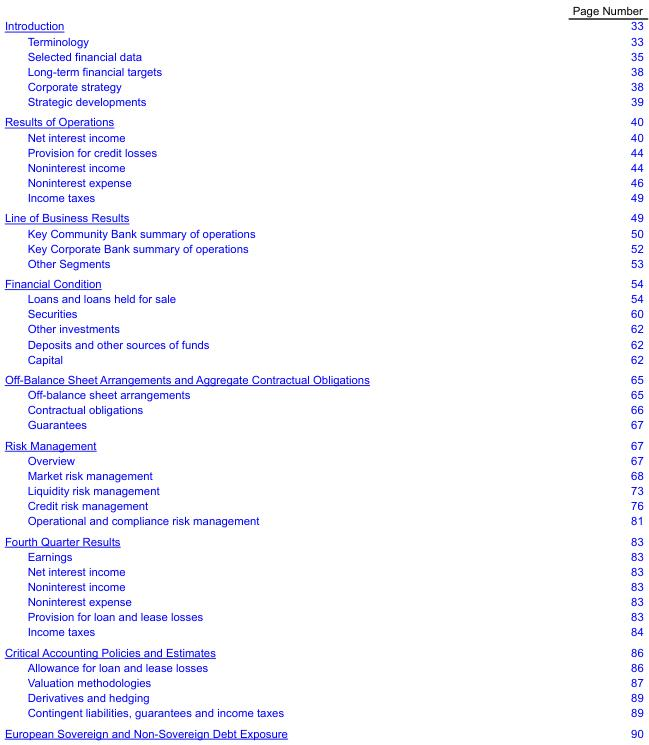table: (3, 3, 642, 738)
table column: (3, 3, 470, 738), (470, 3, 642, 738)
table column header: (3, 3, 642, 17)
table row: (3, 93, 642, 111), (3, 111, 642, 129), (3, 189, 642, 207), (3, 272, 642, 290), (3, 368, 642, 386), (3, 416, 642, 434), (3, 434, 642, 452), (3, 512, 642, 530), (3, 530, 642, 548), (3, 623, 642, 641), (3, 641, 642, 659), (3, 704, 642, 722), (3, 207, 642, 224), (3, 255, 642, 272), (3, 351, 642, 368), (3, 17, 642, 33), (3, 224, 642, 240), (3, 320, 642, 336), (3, 722, 642, 738), (3, 33, 642, 48), (3, 48, 642, 63), (3, 63, 642, 78), (3, 78, 642, 93), (3, 129, 642, 144), (3, 144, 642, 159), (3, 159, 642, 174), (3, 174, 642, 189), (3, 240, 642, 255), (3, 290, 642, 305), (3, 305, 642, 320), (3, 336, 642, 351), (3, 386, 642, 401), (3, 401, 642, 416), (3, 452, 642, 467), (3, 467, 642, 482), (3, 482, 642, 497), (3, 497, 642, 512), (3, 548, 642, 563), (3, 563, 642, 578), (3, 578, 642, 593), (3, 593, 642, 608), (3, 608, 642, 623), (3, 659, 642, 674), (3, 674, 642, 689), (3, 689, 642, 704), (3, 3, 642, 17)
